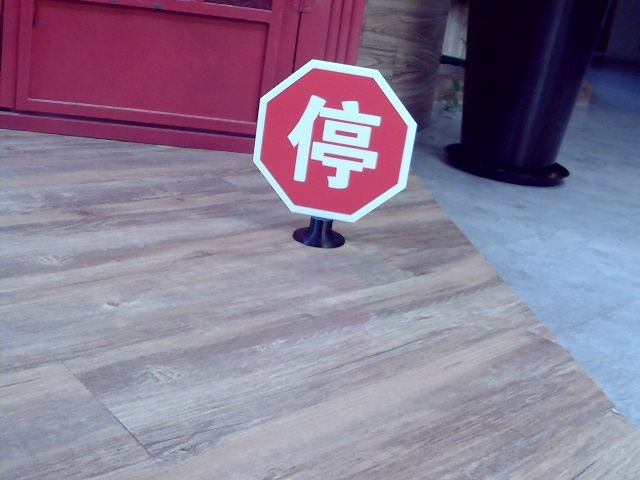stop: (285, 91, 380, 187)
